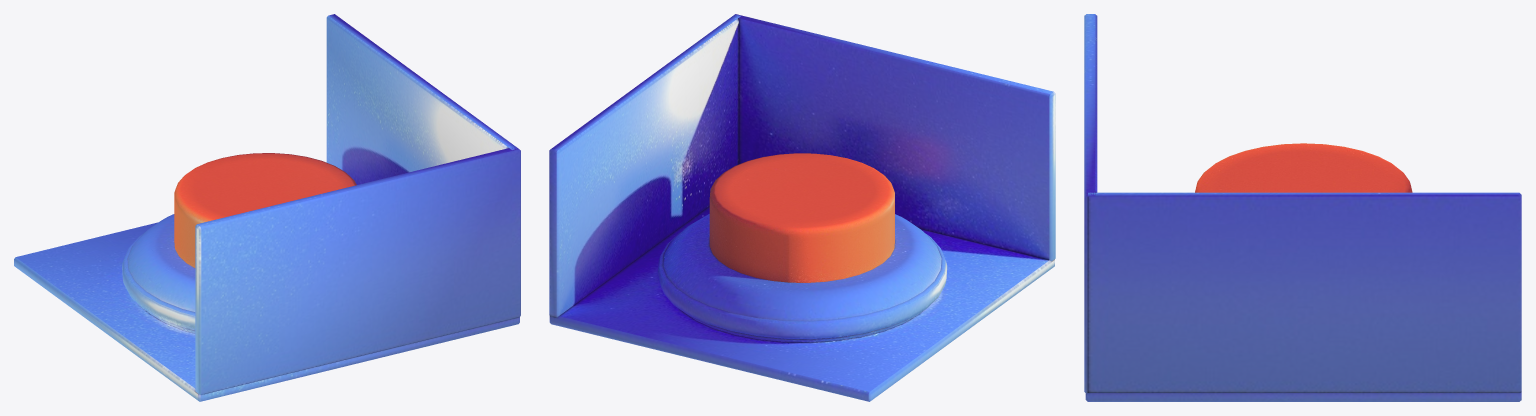
Rendered from coroso-example.glb.
The picture shows the model from 3 angles, left to right: view 1: azimuth 30°, elevation 25°; view 2: azimuth 150°, elevation 25°; view 3: azimuth 270°, elevation 25°; orthographic projection. The views are drawn at different scales.
Visible parts, largest first — view 1: Cube.2, button, Connect; view 2: Cube.2, button, Connect; view 3: Cube.2, button.
Part boxes in pixels (x1,y1,x2,y2): Cube.2: (14,14,520,401); button: (174,153,356,267); Connect: (122,214,195,333); Cube.2: (549,14,1055,401); button: (709,153,894,282); Connect: (657,214,947,342); Cube.2: (1084,14,1521,401); button: (1195,143,1412,192).
Size of the model in its own units: 78804 by 41623 by 79007.
Materials: 3 (3 with a texture image).
